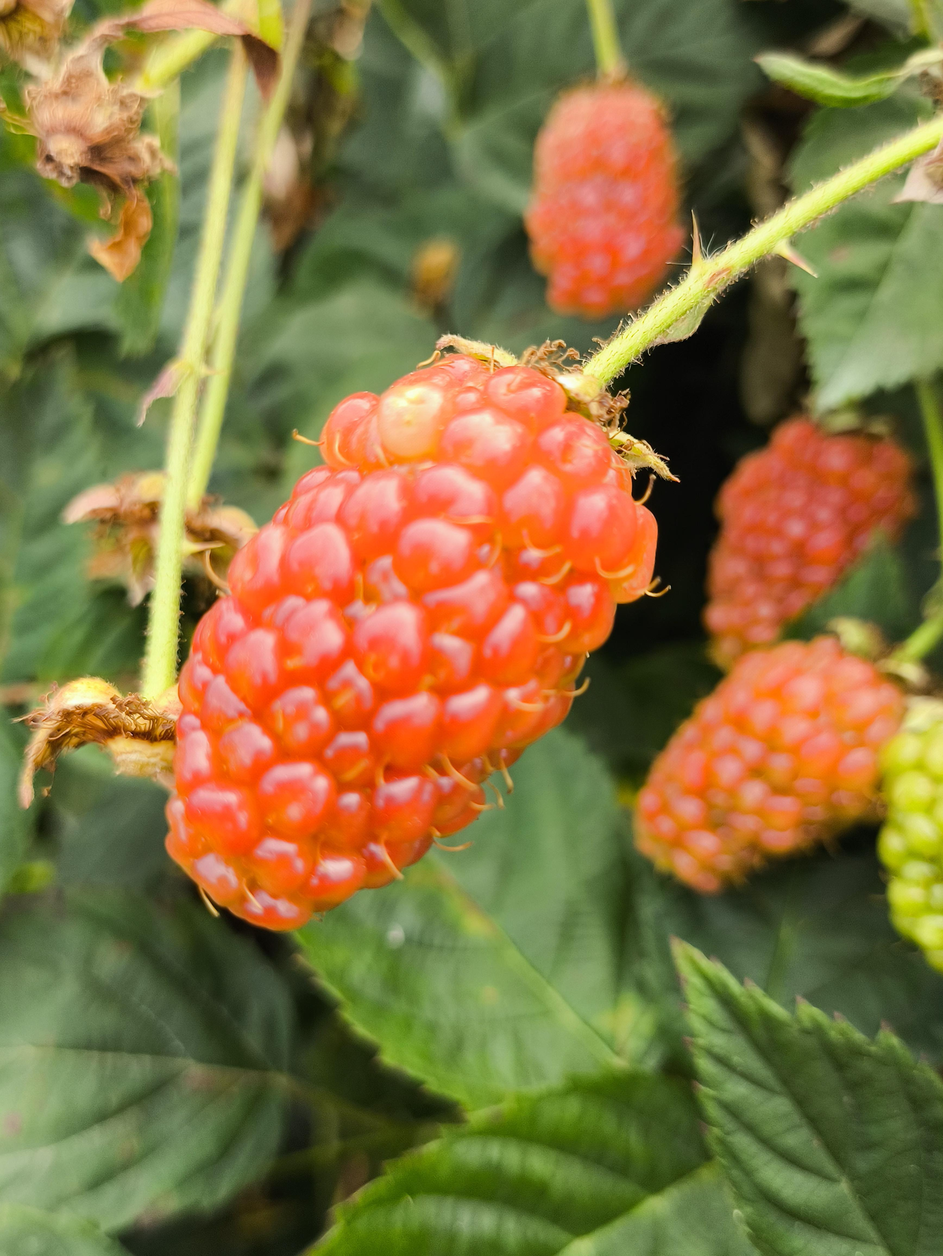naranja: (163, 348, 638, 929), (635, 637, 903, 892), (704, 417, 916, 669), (521, 81, 679, 317)
